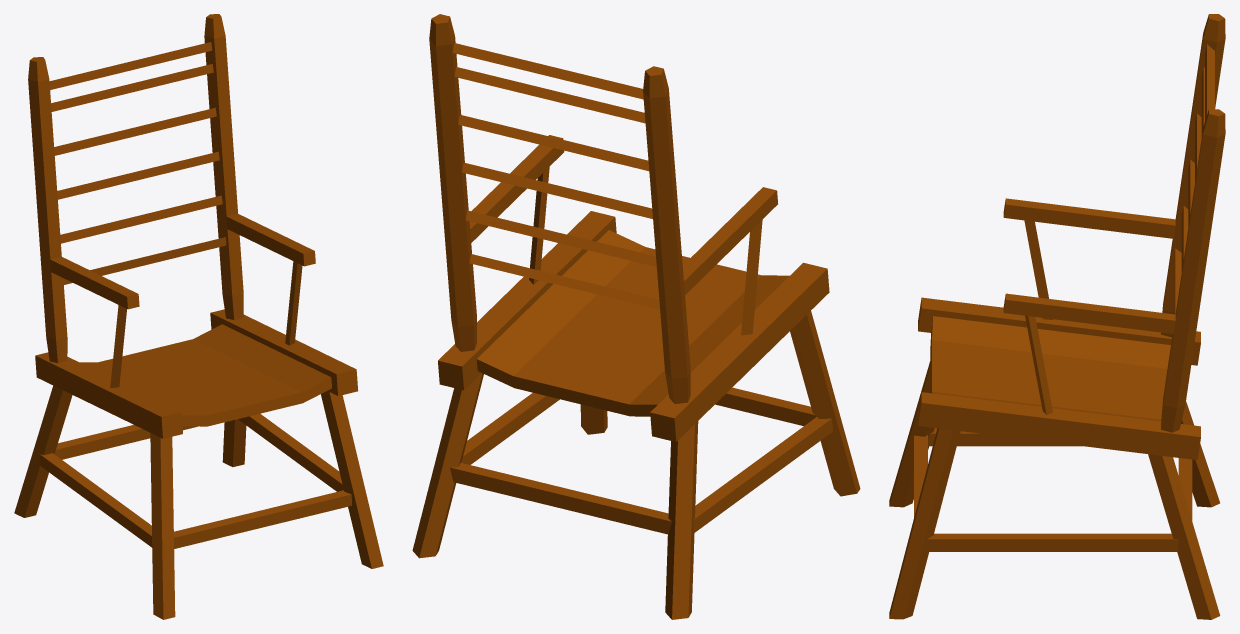
The model's file is chair1.glb.
3 views of the same model, side by side, from view 1: azimuth 30°, elevation 25°; view 2: azimuth 150°, elevation 25°; view 3: azimuth 270°, elevation 25° (orthographic). The views are drawn at different scales.
Visible parts, largest first — view 1: misc_chair01; view 2: misc_chair01; view 3: misc_chair01.
Part boxes in pixels (bbox=[...]): misc_chair01: bbox=[14, 14, 383, 619]; misc_chair01: bbox=[412, 14, 860, 619]; misc_chair01: bbox=[889, 14, 1225, 619].
Size of the model in its own units: 1.13 by 2.13 by 1.31.
